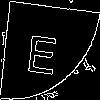E: (25, 25, 60, 76)
